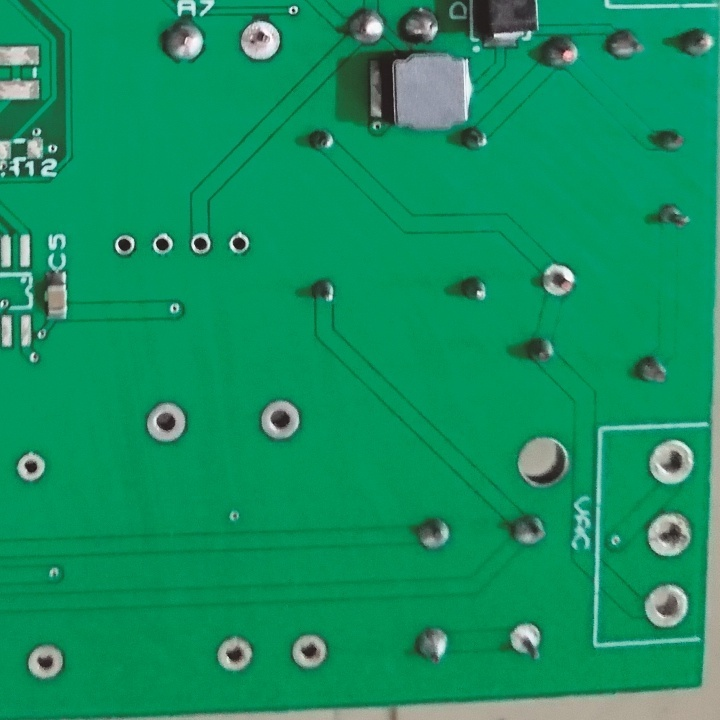F: (645, 438, 697, 492), (233, 15, 285, 63), (647, 510, 694, 563), (643, 582, 693, 631), (256, 396, 304, 444), (146, 398, 190, 446), (23, 641, 69, 683), (215, 633, 256, 674), (538, 260, 580, 300), (509, 621, 548, 664), (290, 632, 330, 671), (13, 449, 48, 486), (149, 230, 177, 260), (227, 229, 254, 259), (112, 232, 139, 261), (187, 232, 215, 258)
